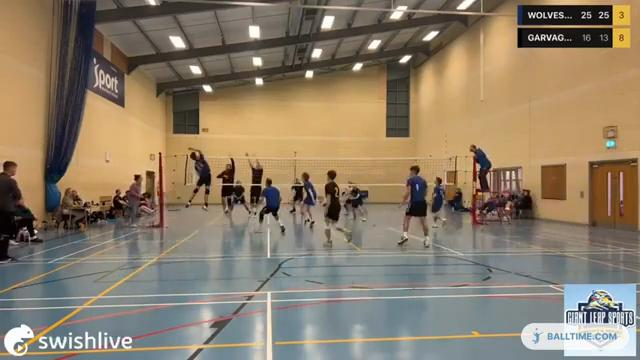attacco: (186, 142, 213, 213)
muro: (241, 151, 264, 214)
